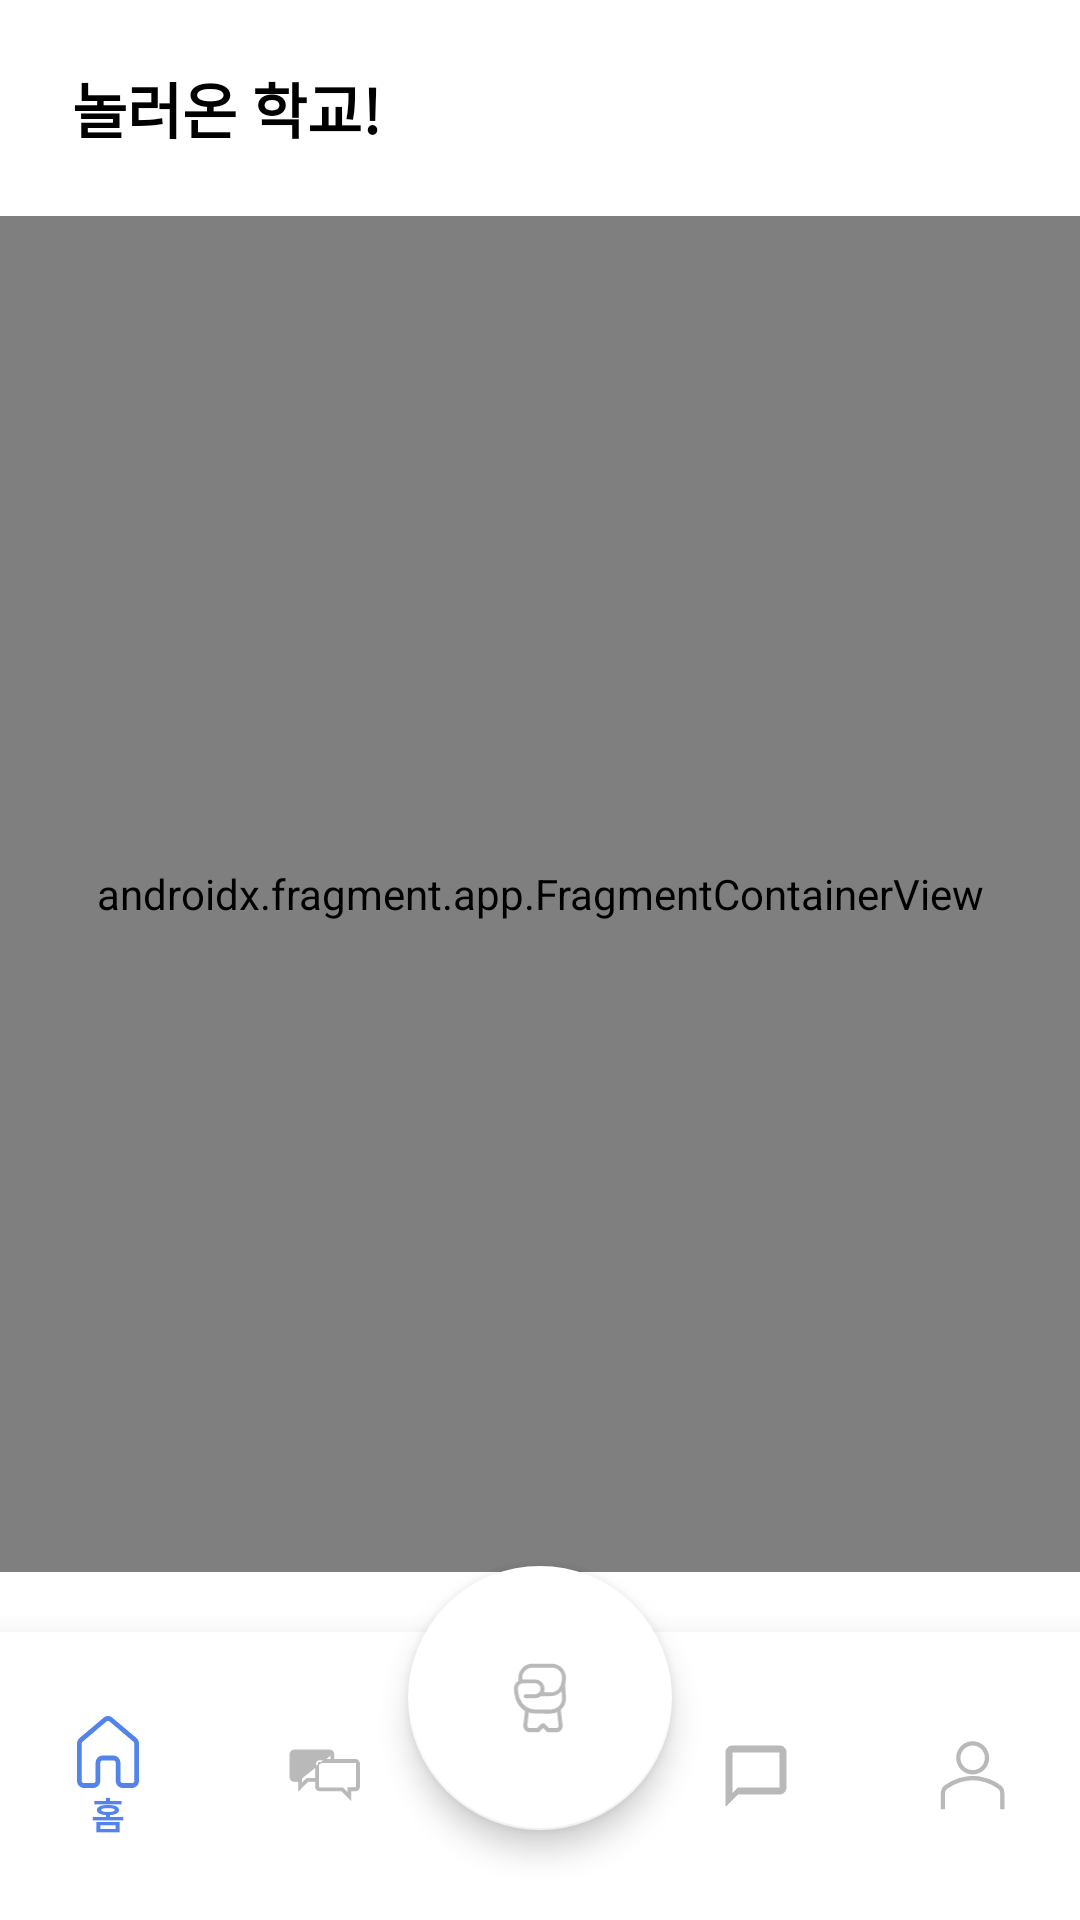

Locate icon controls on the screen. Image size 1080*1920, boxes as (x1, y1, x2, y2).
battles: (408, 1566, 672, 1830)
